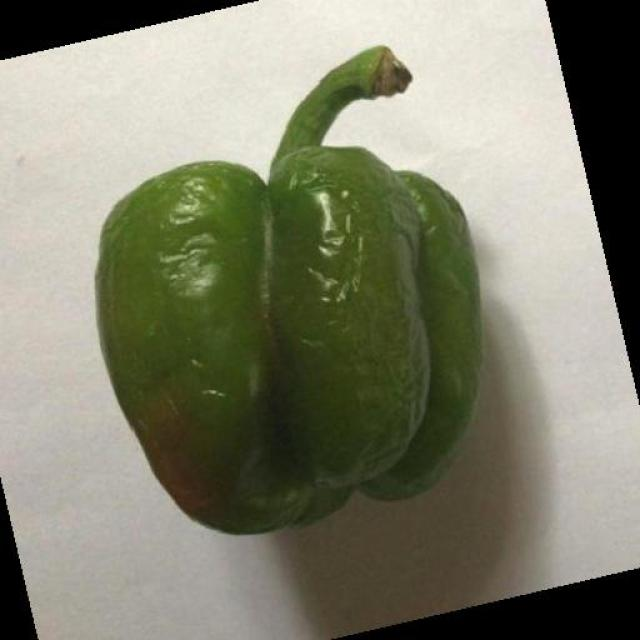Stale_Capsicum: (128, 155, 472, 486)
